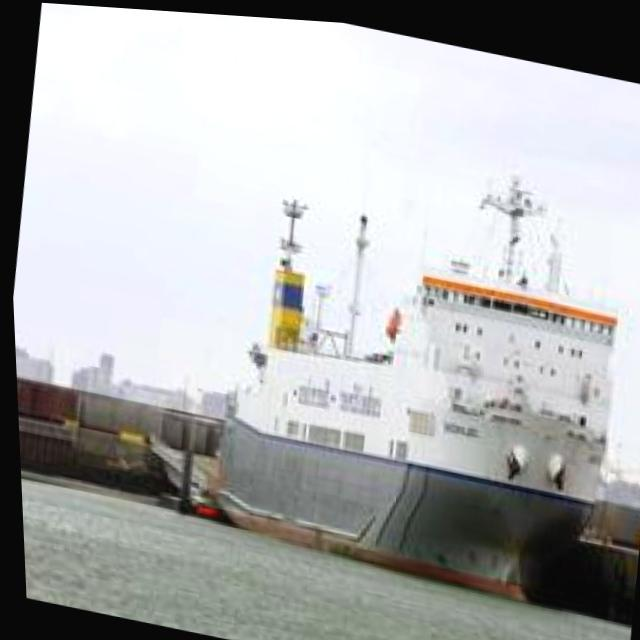ship2: (213, 171, 618, 598)
